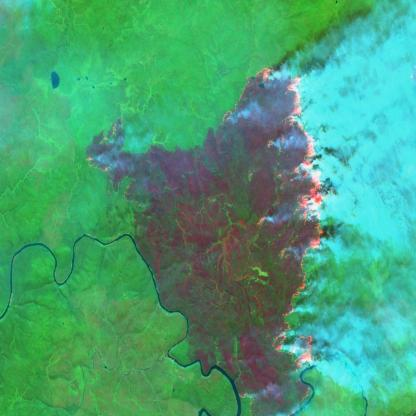fire: (219, 61, 338, 416)
